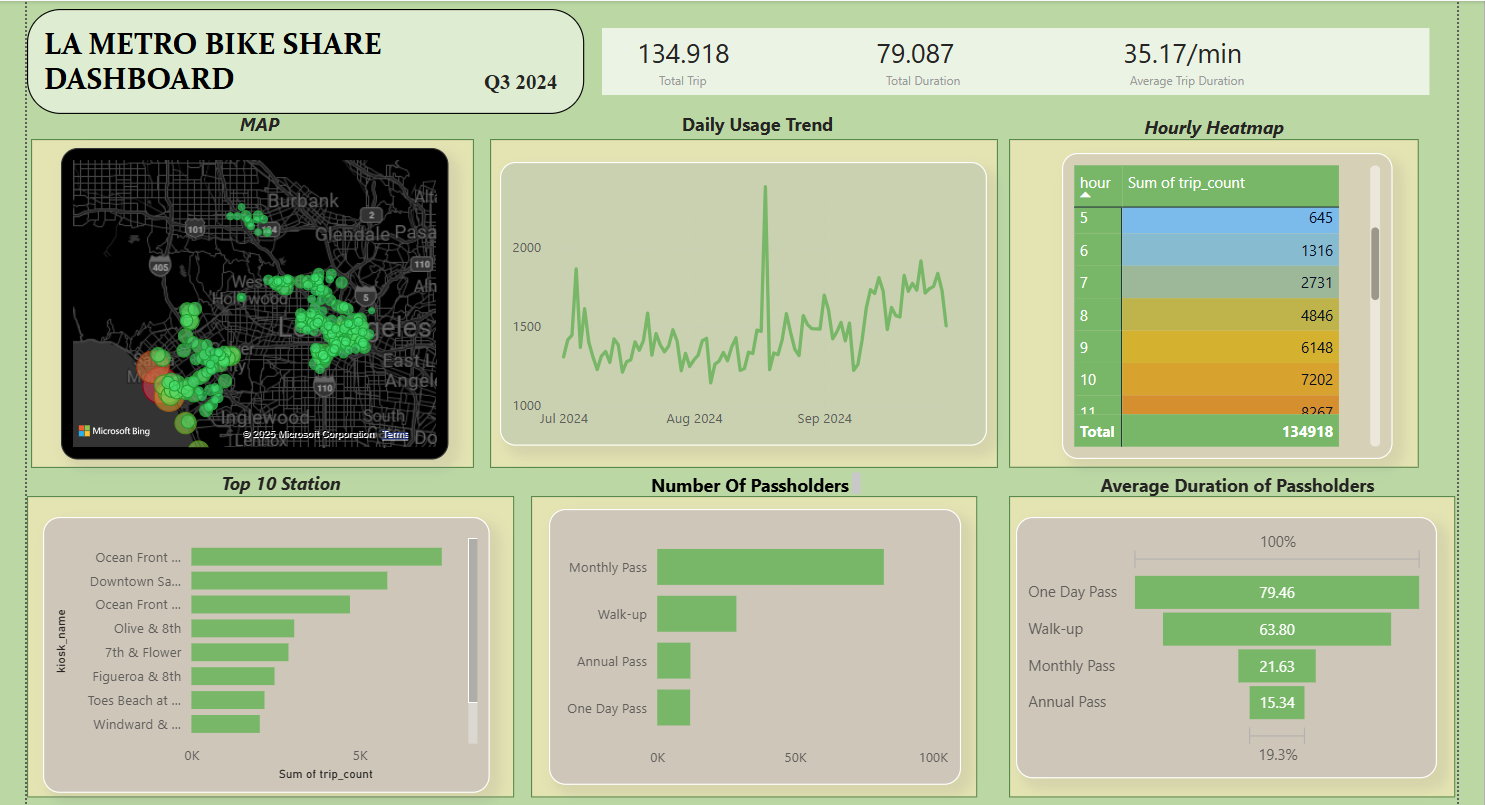

What the dashboard file says about the page in this screenshot:
{"tool":"powerbi","page":{"name":"Page 4","canvas":[1280,720],"ordinal":3},"visuals":[{"type":"shape","box":[451.3,443.3,400.3,270.4],"z":0},{"type":"shape","box":[0,443.3,437,270.4],"z":1000},{"type":"shape","box":[879.4,123.6,367.2,294.6],"z":2000},{"type":"shape","box":[414.6,123.6,454.9,294.6],"z":3000},{"type":"shape","box":[3.6,123.6,396.7,294.6],"z":4000},{"type":"shape","box":[879.4,443.3,400.3,270.4],"z":5000},{"type":"textbox","box":[0,7.2,498.8,94],"z":6000},{"type":"textbox","box":[70.7,94,266.9,42.1],"z":7000},{"type":"map","title":"Station-Based Ride Density (Q3 2024)","fields":{"Y":["Sheet1 (2).latitude"],"X":["Sheet1 (2).longitude"],"Size":["Sum(Sheet1 (2).trip_count)"]},"box":[30.4,131.6,347.5,279.4],"z":8000},{"type":"textbox","box":[523.9,94,256.1,42.1],"z":9000},{"type":"lineChart","fields":{"Category":["Sheet1.ride_day"],"Y":["Sum(Sheet1.ride_count)"]},"box":[423.6,144.2,436.1,254.3],"z":10000},{"type":"textbox","box":[934.9,96.7,256.1,48.4],"z":11000},{"type":"pivotTable","fields":{"Rows":["hour (2).hour"],"Values":["Sum(hour (2).trip_count)"]},"box":[926.9,136.1,295.5,274],"z":12000},{"type":"textbox","box":[86.9,415.5,277.6,39.4],"z":13000},{"type":"barChart","fields":{"Category":["crowded_stations.kiosk_name"],"Y":["Sum(crowded_stations.trip_count)"]},"box":[14.3,462.1,400.3,247.2],"z":14000},{"type":"clusteredBarChart","fields":{"Category":["passholder_count.passholder_type"],"Y":["Sum(passholder_count.user_count)"]},"box":[467.5,454.9,369,247.2],"z":15000},{"type":"funnel","fields":{"Category":["passholder_duration_avg.passholder_type"],"Y":["Sum(passholder_duration_avg.avg_duration)"]},"box":[885.7,462.1,377,233.7],"z":16000},{"type":"textbox","box":[892.8,417.3,373.4,36.7],"z":17000},{"type":"textbox","box":[550.7,417.3,201.5,36.7],"z":18000},{"type":"textbox","box":[514.9,24.2,740.6,60],"z":19000}]}

Visuals, with their boxes on the page's 1280x720 design canvas (x1, y1, x2, y2). These are canvas units, not pixel positions in the 1485x805 screenshot, which may show the page scaled, cropped or inside an application window:
shape: box=[451, 443, 852, 714]
shape: box=[0, 443, 437, 714]
shape: box=[879, 124, 1247, 418]
shape: box=[415, 124, 870, 418]
shape: box=[4, 124, 400, 418]
shape: box=[879, 443, 1280, 714]
textbox: box=[0, 7, 499, 101]
textbox: box=[71, 94, 338, 136]
"Station-Based Ride Density (Q3 2024)" map: box=[30, 132, 378, 411]
textbox: box=[524, 94, 780, 136]
lineChart - Sheet1.ride_day x Sum(Sheet1.ride_count): box=[424, 144, 860, 398]
textbox: box=[935, 97, 1191, 145]
pivotTable - hour (2).hour x Sum(hour (2).trip_count): box=[927, 136, 1222, 410]
textbox: box=[87, 416, 364, 455]
barChart - crowded_stations.kiosk_name x Sum(crowded_stations.trip_count): box=[14, 462, 415, 709]
clusteredBarChart - passholder_count.passholder_type x Sum(passholder_count.user_count): box=[468, 455, 836, 702]
funnel - passholder_duration_avg.passholder_type x Sum(passholder_duration_avg.avg_duration): box=[886, 462, 1263, 696]
textbox: box=[893, 417, 1266, 454]
textbox: box=[551, 417, 752, 454]
textbox: box=[515, 24, 1256, 84]
